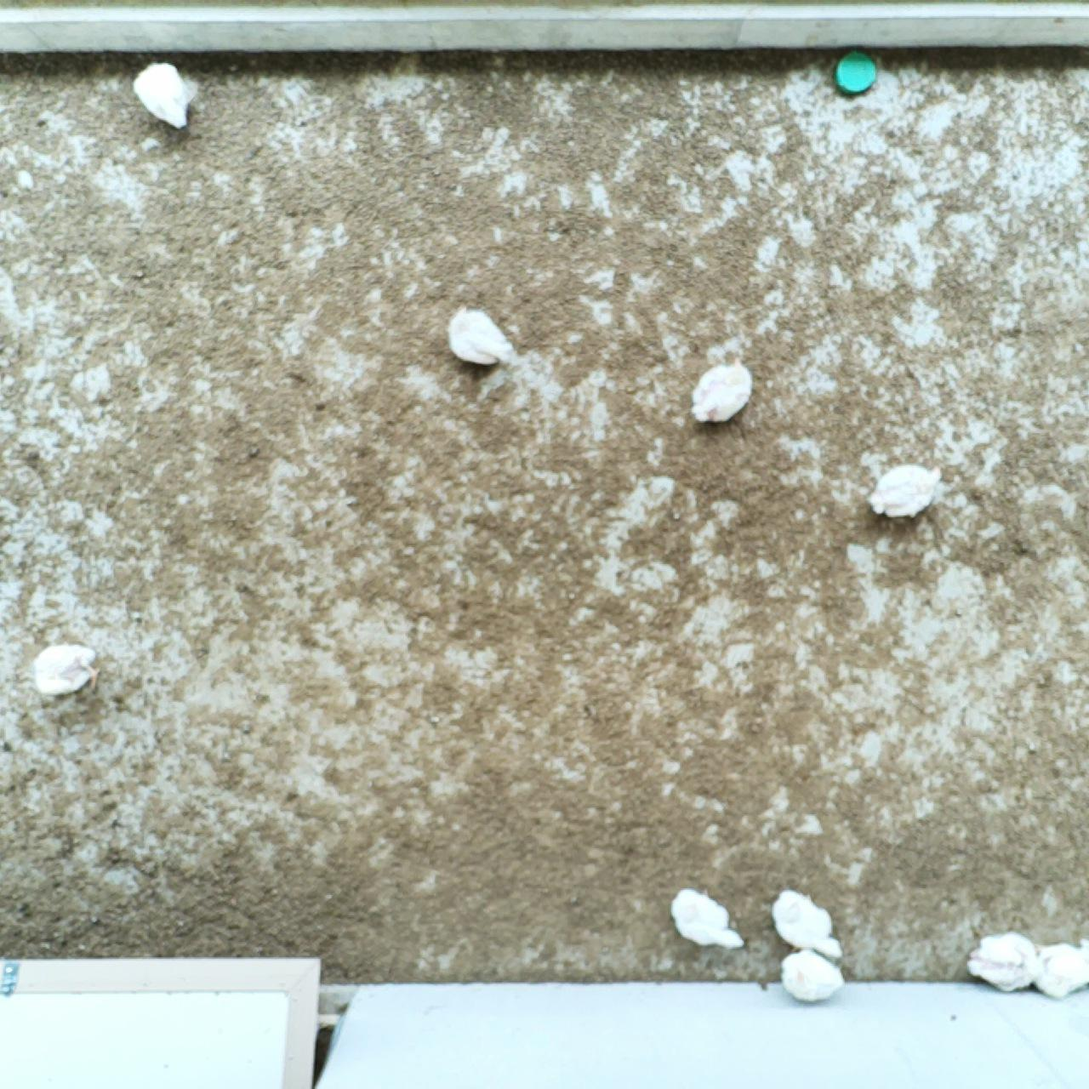chicken: (771, 888, 848, 962), (686, 356, 762, 430), (669, 885, 746, 956), (443, 301, 520, 369), (965, 928, 1041, 993), (867, 461, 944, 523), (130, 58, 194, 132), (30, 639, 101, 705), (775, 941, 848, 1005), (1028, 935, 1089, 1001)
